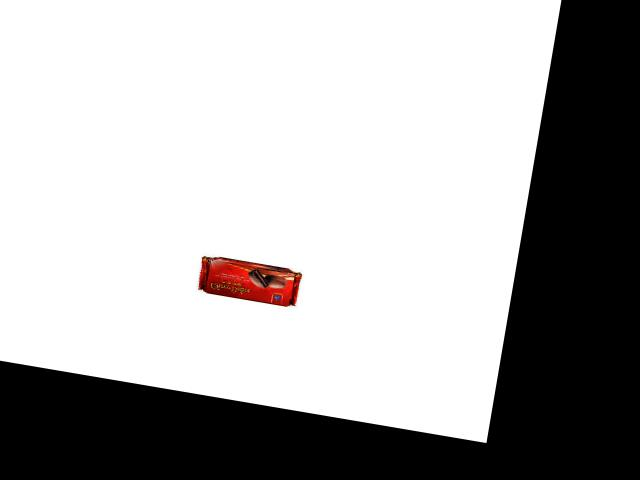chocolate: (195, 244, 305, 309)
